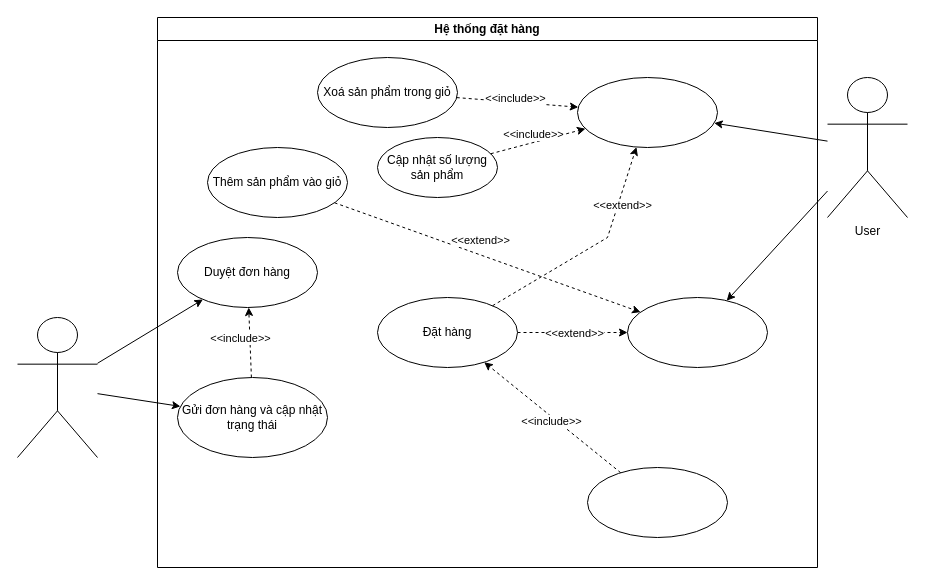
The diagram is 925 pixels wide and 585 high, and some of its shapes have lost their labels. Here are the shapes that lost their labels. From the top down, the centre of each, then its label:
point 647,112: Xem giỏ hàng
point 697,332: Xem hàng
point 57,387: Admin
point 657,502: Thanh toán
